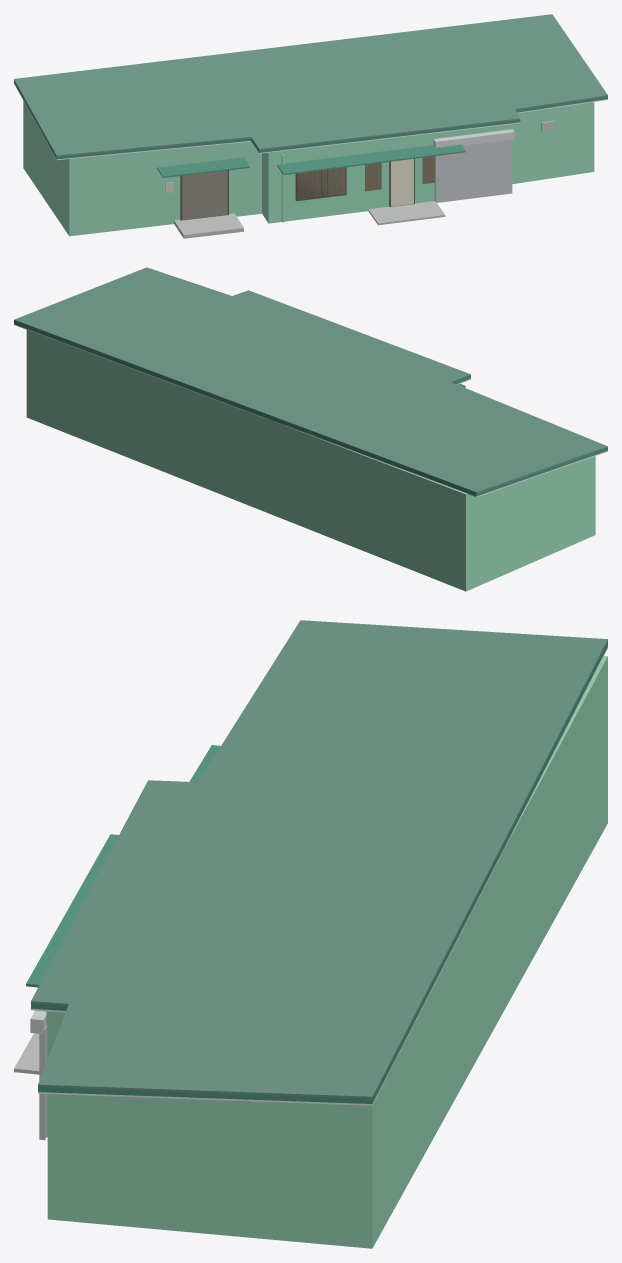
Rendered from rares_apco.glb.
3 views of the same model, one above another, from view 1: azimuth 30°, elevation 25°; view 2: azimuth 150°, elevation 25°; view 3: azimuth 270°, elevation 25° (orthographic). The views are drawn at different scales.
Parts seen in each view (by area): view 1: APCO_RoofSheet, APCO_MainBody, RollUp_Shutter, Awning_Mid, DoubleDoor_Leaves, APCO_FasciaDeck, CreamDoor_Apron, DoubleDoor_Stoop, GrilledWin_Glass, CreamDoor_Leaf, Awning_West, GrilledWin_Frame (+4 smaller); view 2: APCO_MainBody, APCO_RoofSheet, APCO_FasciaDeck, APCO_Soffit; view 3: APCO_RoofSheet, APCO_MainBody, APCO_FasciaDeck, Awning_Mid, APCO_Soffit.
Part boxes in pixels (x1,y1,x2,y2): APCO_RoofSheet: (14,14,607,156); APCO_MainBody: (23,101,594,236); RollUp_Shutter: (434,139,512,202); Awning_Mid: (277,144,465,174); DoubleDoor_Leaves: (182,170,227,220); APCO_FasciaDeck: (14,80,607,159); CreamDoor_Apron: (368,201,445,225); DoubleDoor_Stoop: (174,213,243,238); GrilledWin_Glass: (297,167,345,199); CreamDoor_Leaf: (391,159,413,206); Awning_West: (157,157,249,177); GrilledWin_Frame: (295,167,346,201); APCO_MainBody: (26,330,595,591); APCO_RoofSheet: (14,267,607,493); APCO_FasciaDeck: (14,321,607,496); APCO_Soffit: (14,324,607,497); APCO_RoofSheet: (31,620,607,1098); APCO_MainBody: (46,656,607,1248); APCO_FasciaDeck: (31,642,607,1103); Awning_Mid: (26,834,118,987); APCO_Soffit: (31,647,607,1105).
Size of the model in its own units: 23.73 by 4.04 by 12.4.
